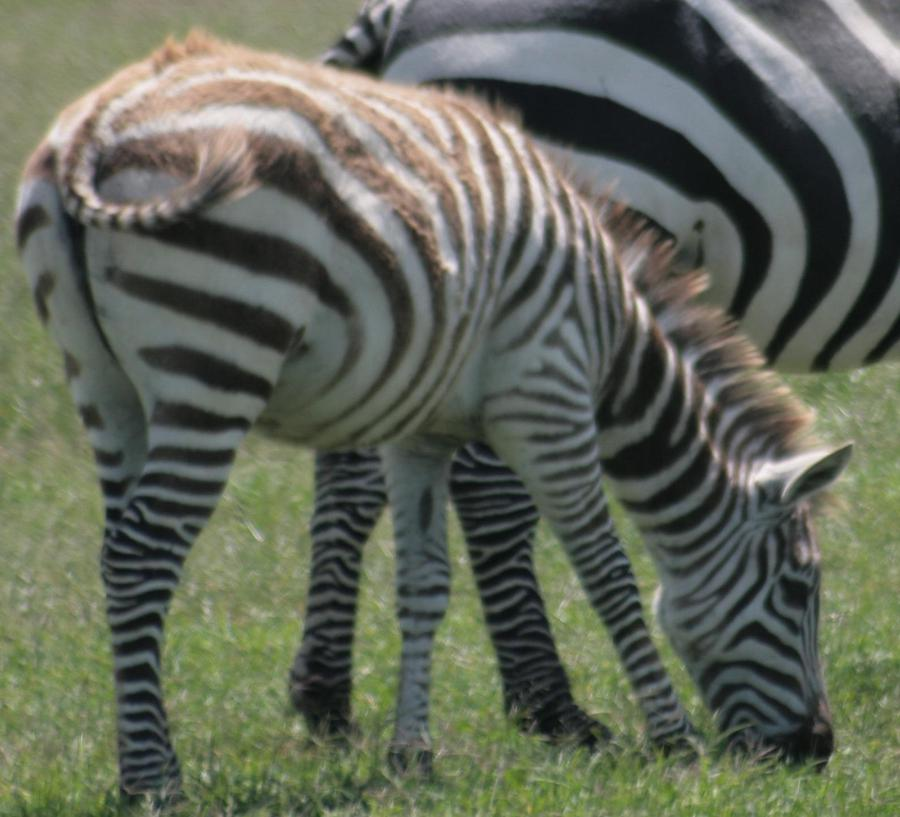zebra_plains: (109, 94, 610, 484)
